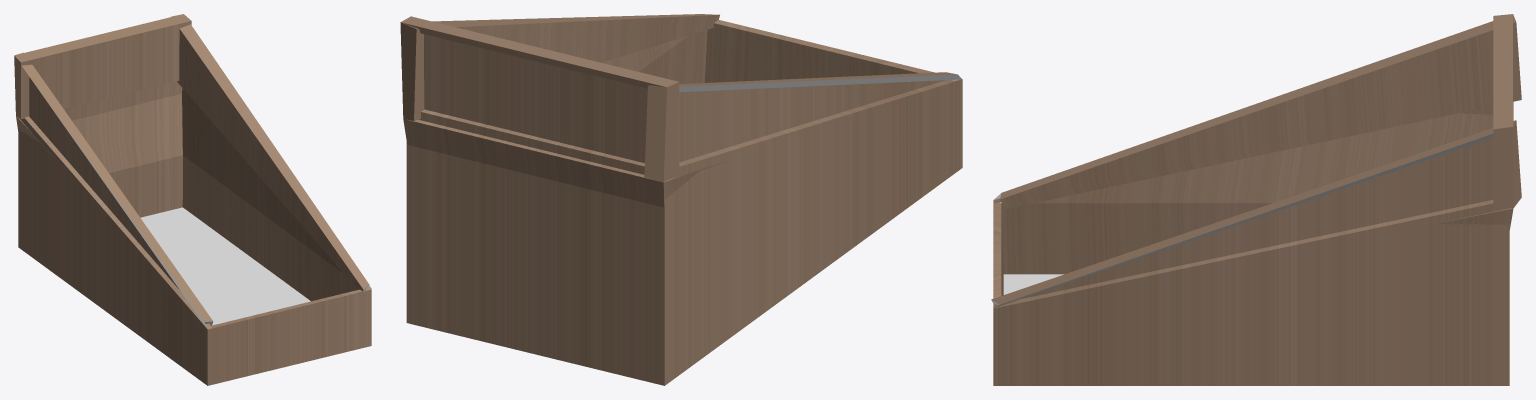
The picture shows the model from 3 angles, left to right: view 1: azimuth 30°, elevation 25°; view 2: azimuth 150°, elevation 25°; view 3: azimuth 270°, elevation 25°; orthographic projection. The views are drawn at different scales.
Visible parts, largest first — view 1: Plane; view 2: Plane; view 3: Plane.
Boxes of the visible parts, x1,y1,x2,y2 form: Plane: [14, 14, 371, 385]; Plane: [400, 14, 962, 385]; Plane: [991, 14, 1521, 385].
Size of the model in its own units: 2.08 by 2.23 by 4.11.
Materials: 6 (5 with a texture image).
